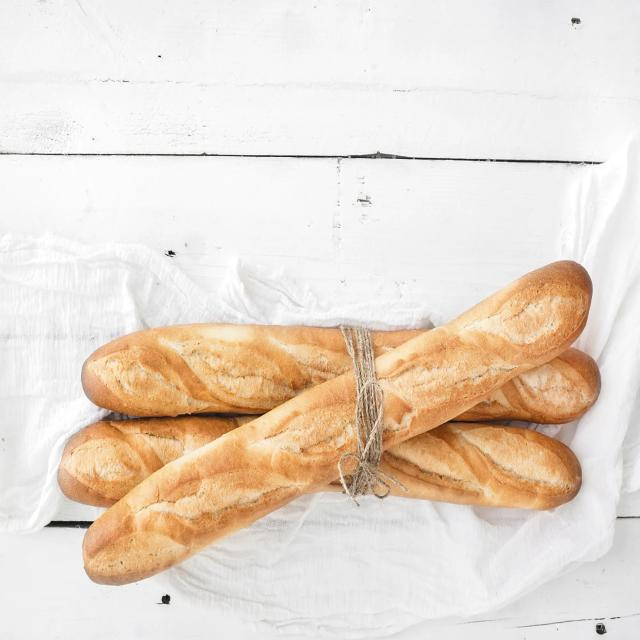Baguette: (83, 370, 358, 583), (373, 261, 591, 447), (82, 324, 352, 416), (58, 416, 256, 507), (379, 422, 581, 509), (371, 329, 427, 356)
